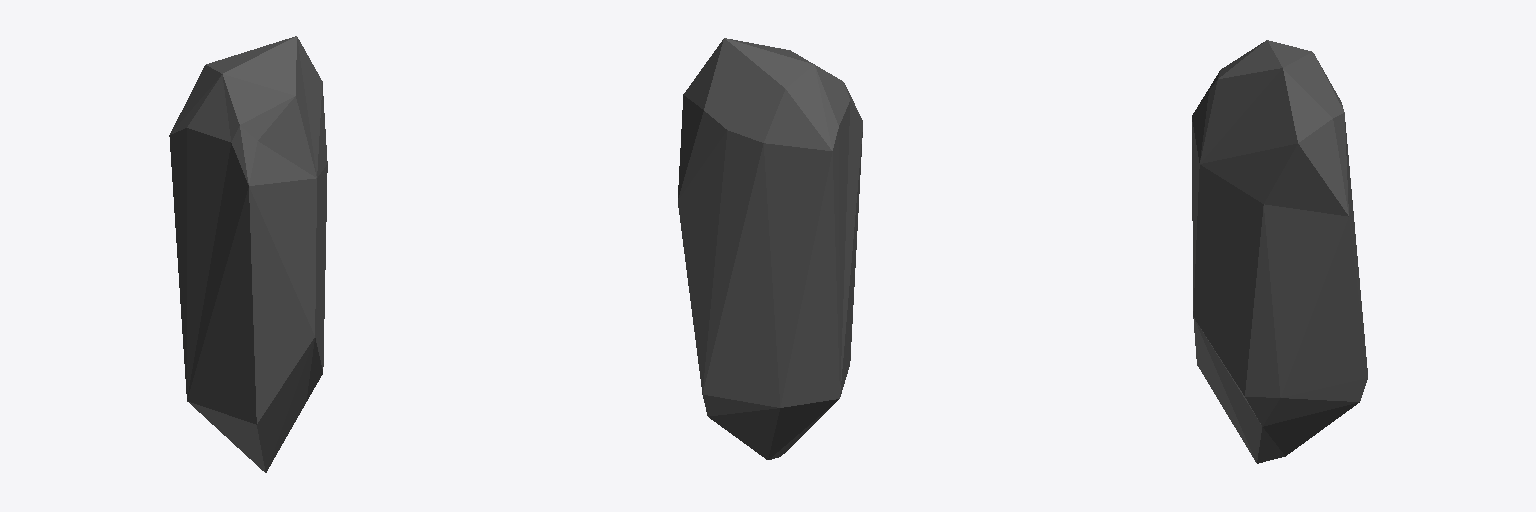
File: mini4.obj
3 views of the same model, side by side, from view 1: azimuth 30°, elevation 25°; view 2: azimuth 150°, elevation 25°; view 3: azimuth 270°, elevation 25° (orthographic).
Parts seen in each view (by area): view 1: mini4; view 2: mini4; view 3: mini4.
Boxes of the visible parts, box(x1,y1,x2,y2) form: mini4: box(169, 36, 327, 472); mini4: box(678, 38, 862, 459); mini4: box(1192, 40, 1367, 463).
Size of the model in its own units: 5.19 by 13.69 by 5.25.